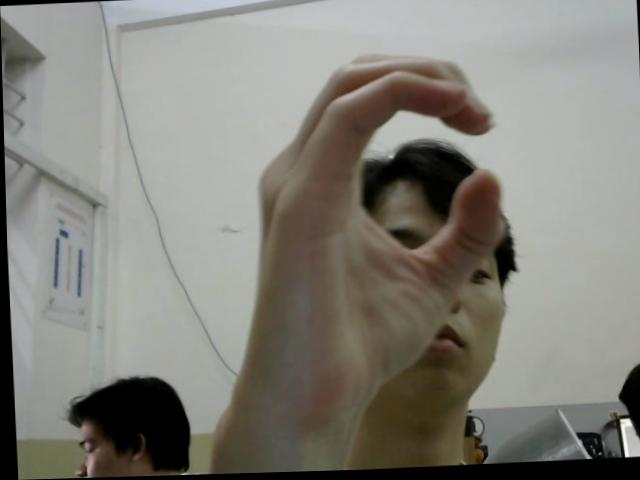C: (230, 45, 512, 414)
